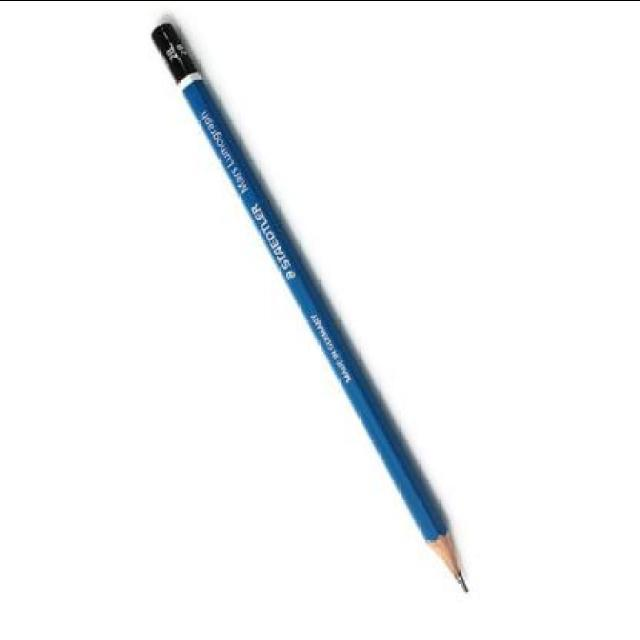Pencil: (412, 513, 482, 605)
